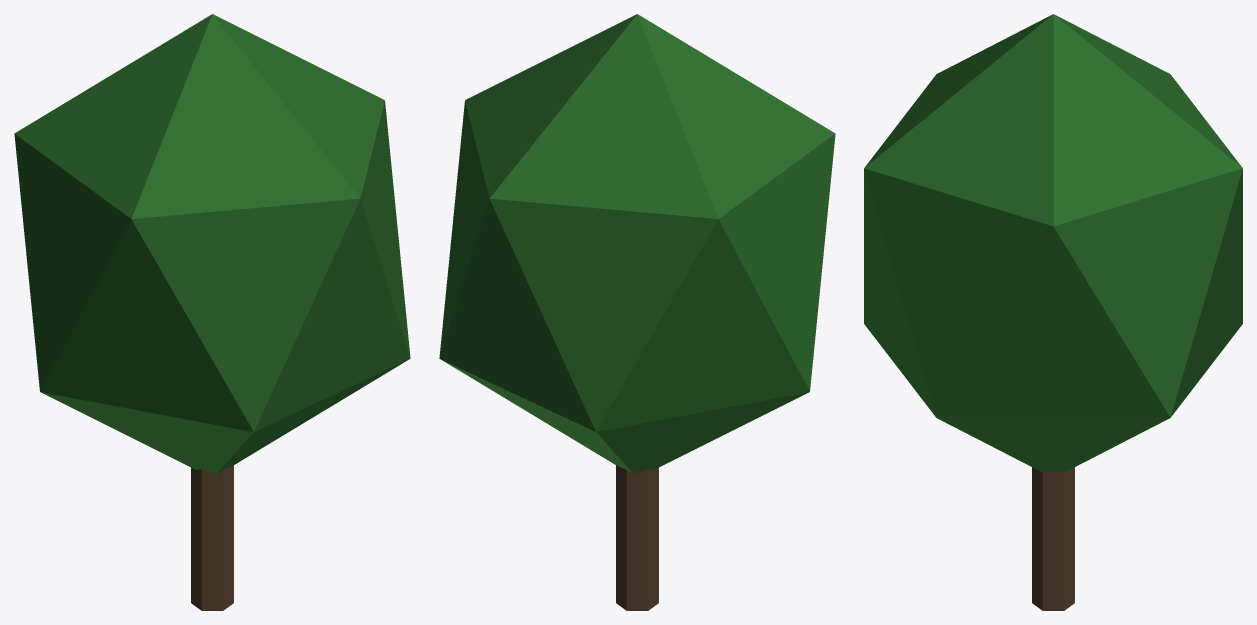
File: tree.glb
3 views of the same model, side by side, from view 1: azimuth 30°, elevation 25°; view 2: azimuth 150°, elevation 25°; view 3: azimuth 270°, elevation 25° (orthographic).
Visible parts, largest first — view 1: tree; view 2: tree; view 3: tree.
Part boxes in pixels (x1,y1,x2,y2): tree: (14, 14, 410, 610); tree: (439, 14, 835, 610); tree: (864, 14, 1242, 610).
Bounding box in the file's own units: 4.65 × 7.59 × 4.42.
